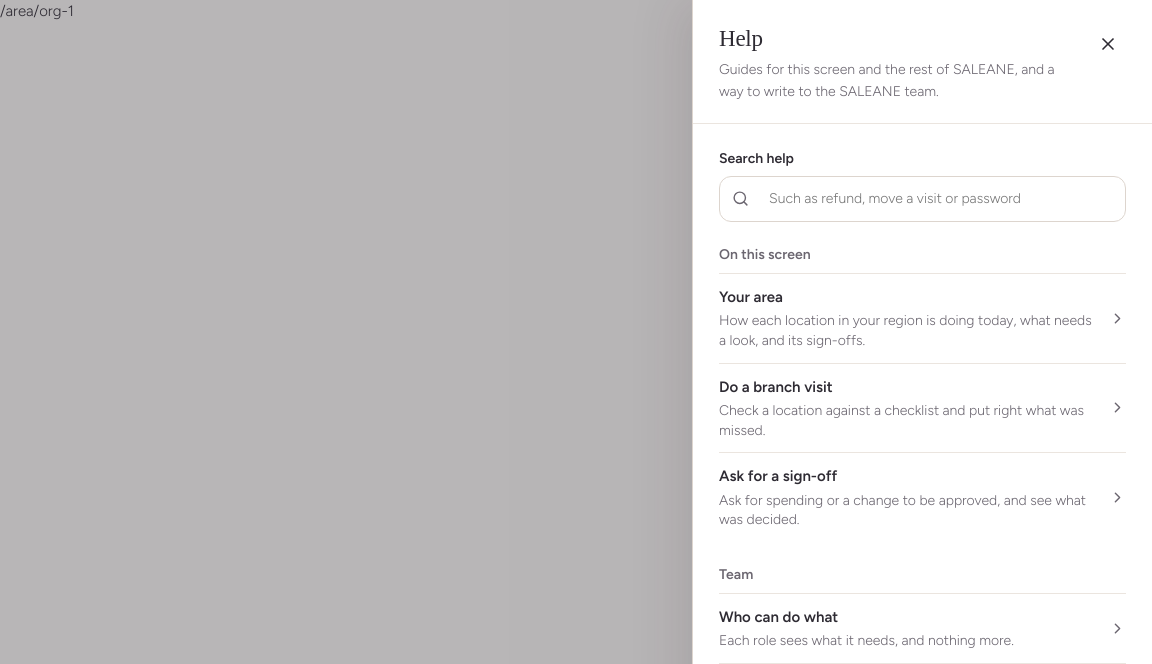
it: a regional manager reads their guides with no way into the studio screens they cannot open
Click the button "Do a branch visit" at point(922, 408), box [719,364,1126,452]
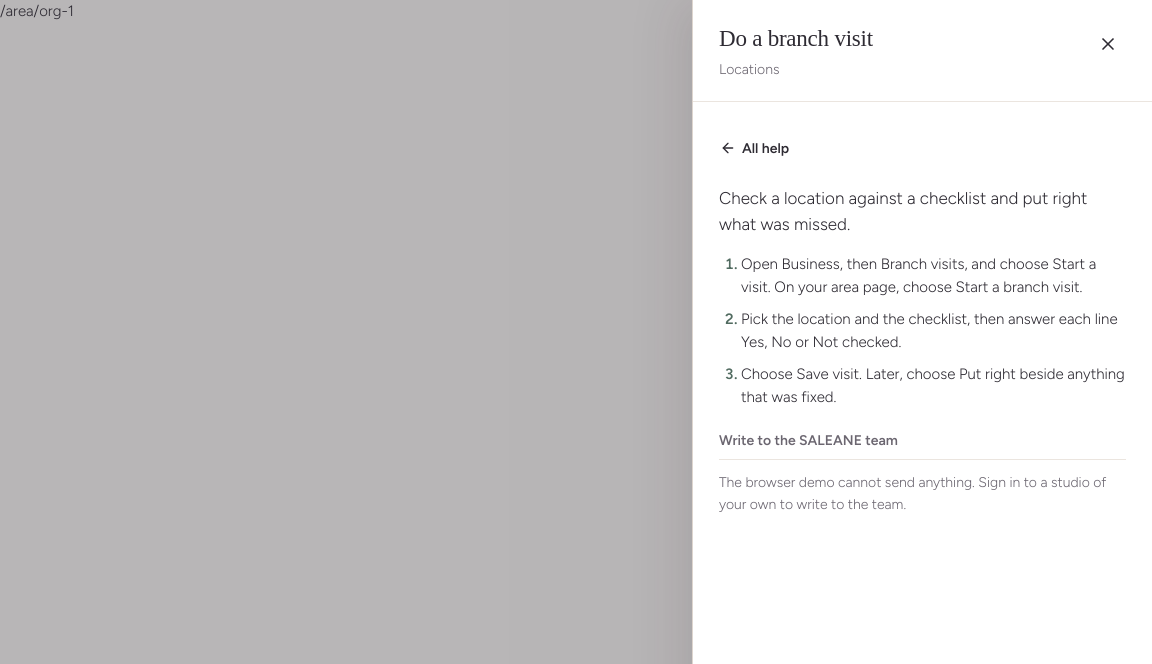
Expected: the dialog "Do a branch visit" shows "On your area page, choose Start a branch visit.", [741,255,1096,296]
